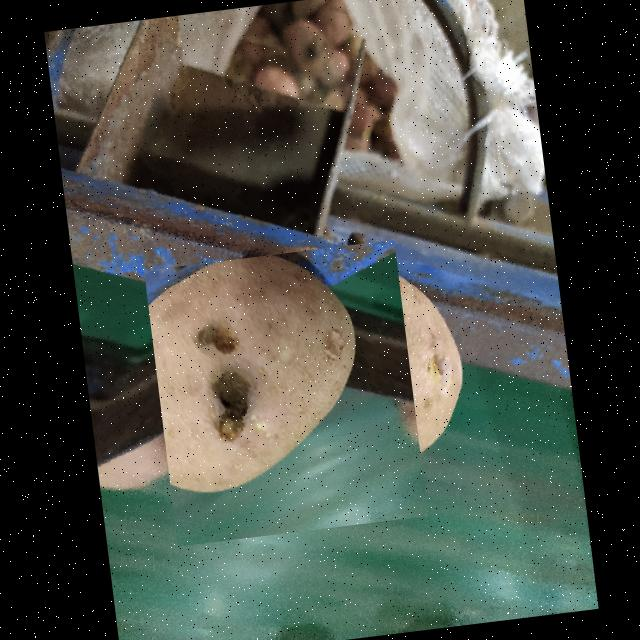Diseased-fungal potato: (142, 239, 426, 546)
